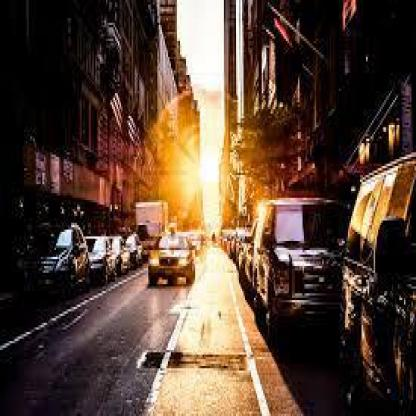other: (178, 125, 230, 202)
